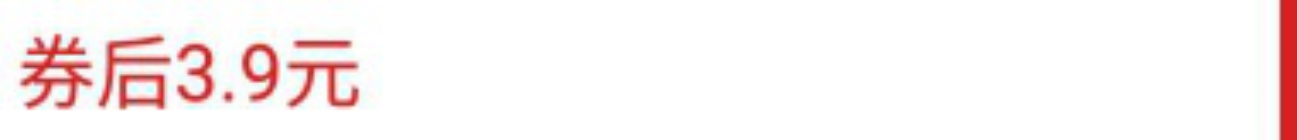TextView: (1, 1, 1296, 139)
